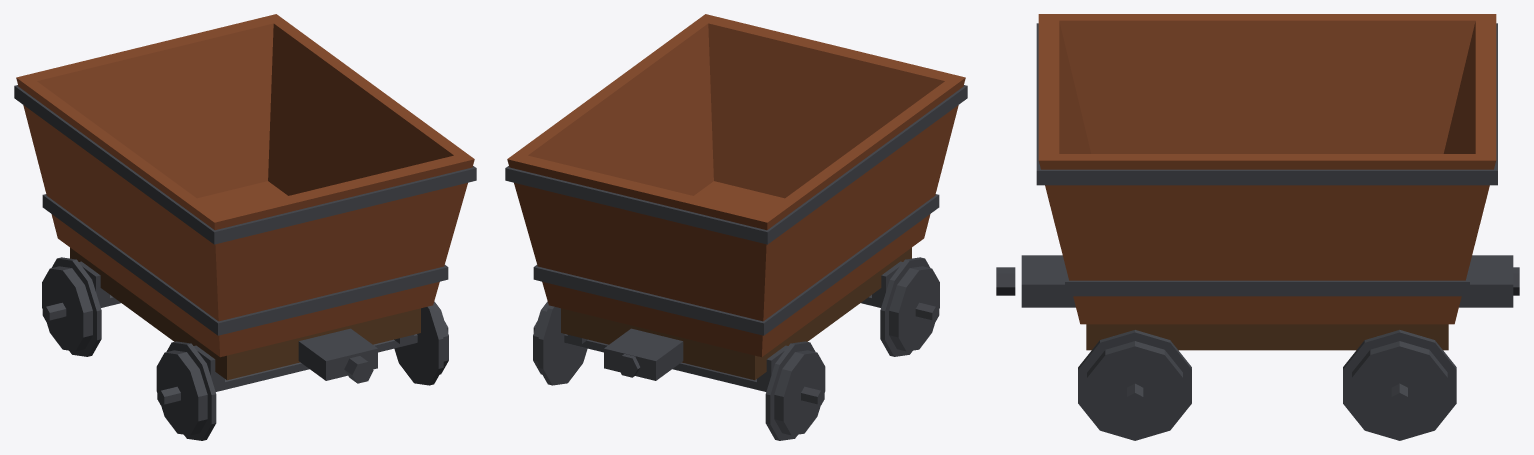
The model's file is mine_cart.glb.
3 views of the same model, side by side, from view 1: azimuth 30°, elevation 25°; view 2: azimuth 150°, elevation 25°; view 3: azimuth 270°, elevation 25° (orthographic). The views are drawn at different scales.
Parts seen in each view (by area): view 1: mine_cart; view 2: mine_cart; view 3: mine_cart.
Part boxes in pixels (x1=…): mine_cart: x1=14, y1=14, x2=476, y2=440; mine_cart: x1=505, y1=14, x2=967, y2=440; mine_cart: x1=996, y1=14, x2=1519, y2=440.
Size of what is drawn, in the model's own units: 1.2 by 1.01 by 1.66.
